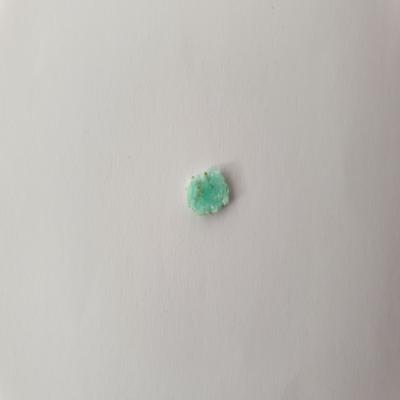plastic: (182, 160, 236, 222)
